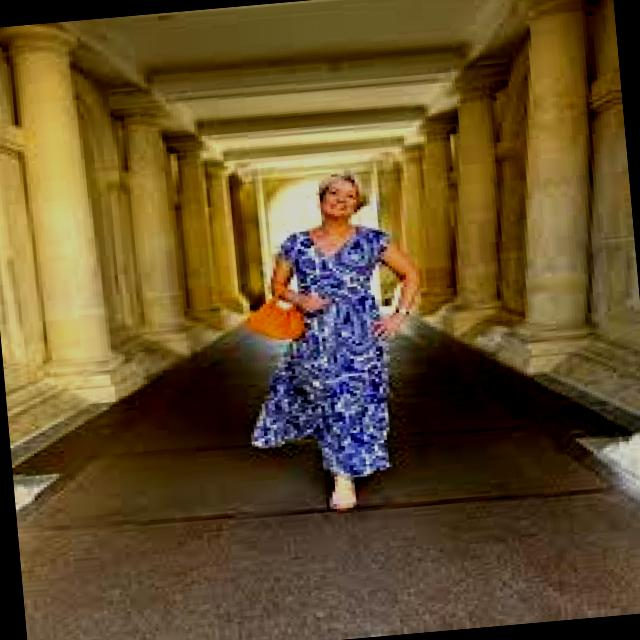dress: (251, 226, 389, 477)
